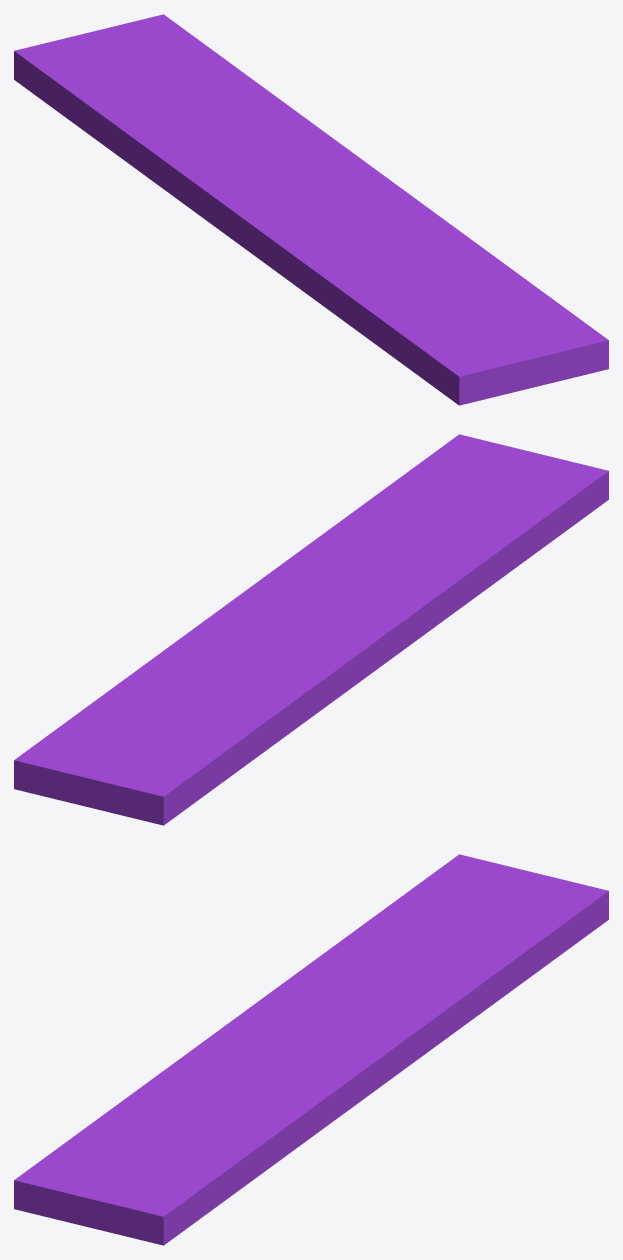
File: StairsStep_76_chunks.fbx
The picture shows the model from 3 angles, top to bottom: view 1: azimuth 30°, elevation 25°; view 2: azimuth 150°, elevation 25°; view 3: azimuth 330°, elevation 25°; orthographic projection.
Parts seen in each view (by area): view 1: StairsStep_76_2, StairsStep_76_1, StairsStep_76_0, StairsStep_76_3; view 2: StairsStep_76_1, StairsStep_76_2, StairsStep_76_0, StairsStep_76_3; view 3: StairsStep_76_2, StairsStep_76_1, StairsStep_76_0, StairsStep_76_3.
Boxes of the visible parts, left/top/right/bottom form: StairsStep_76_2: left=290, top=184, right=608, bottom=405; StairsStep_76_1: left=14, top=14, right=395, bottom=191; StairsStep_76_0: left=102, top=124, right=291, bottom=281; StairsStep_76_3: left=272, top=190, right=348, bottom=279; StairsStep_76_1: left=14, top=590, right=310, bottom=825; StairsStep_76_2: left=246, top=434, right=608, bottom=623; StairsStep_76_0: left=251, top=608, right=440, bottom=760; StairsStep_76_3: left=285, top=568, right=475, bottom=625; StairsStep_76_2: left=14, top=1047, right=382, bottom=1245; StairsStep_76_1: left=312, top=854, right=608, bottom=1084; StairsStep_76_0: left=202, top=928, right=358, bottom=1042; StairsStep_76_3: left=147, top=1026, right=336, bottom=1082.
Size of the model in its own units: 157 by 28.98 by 810.
